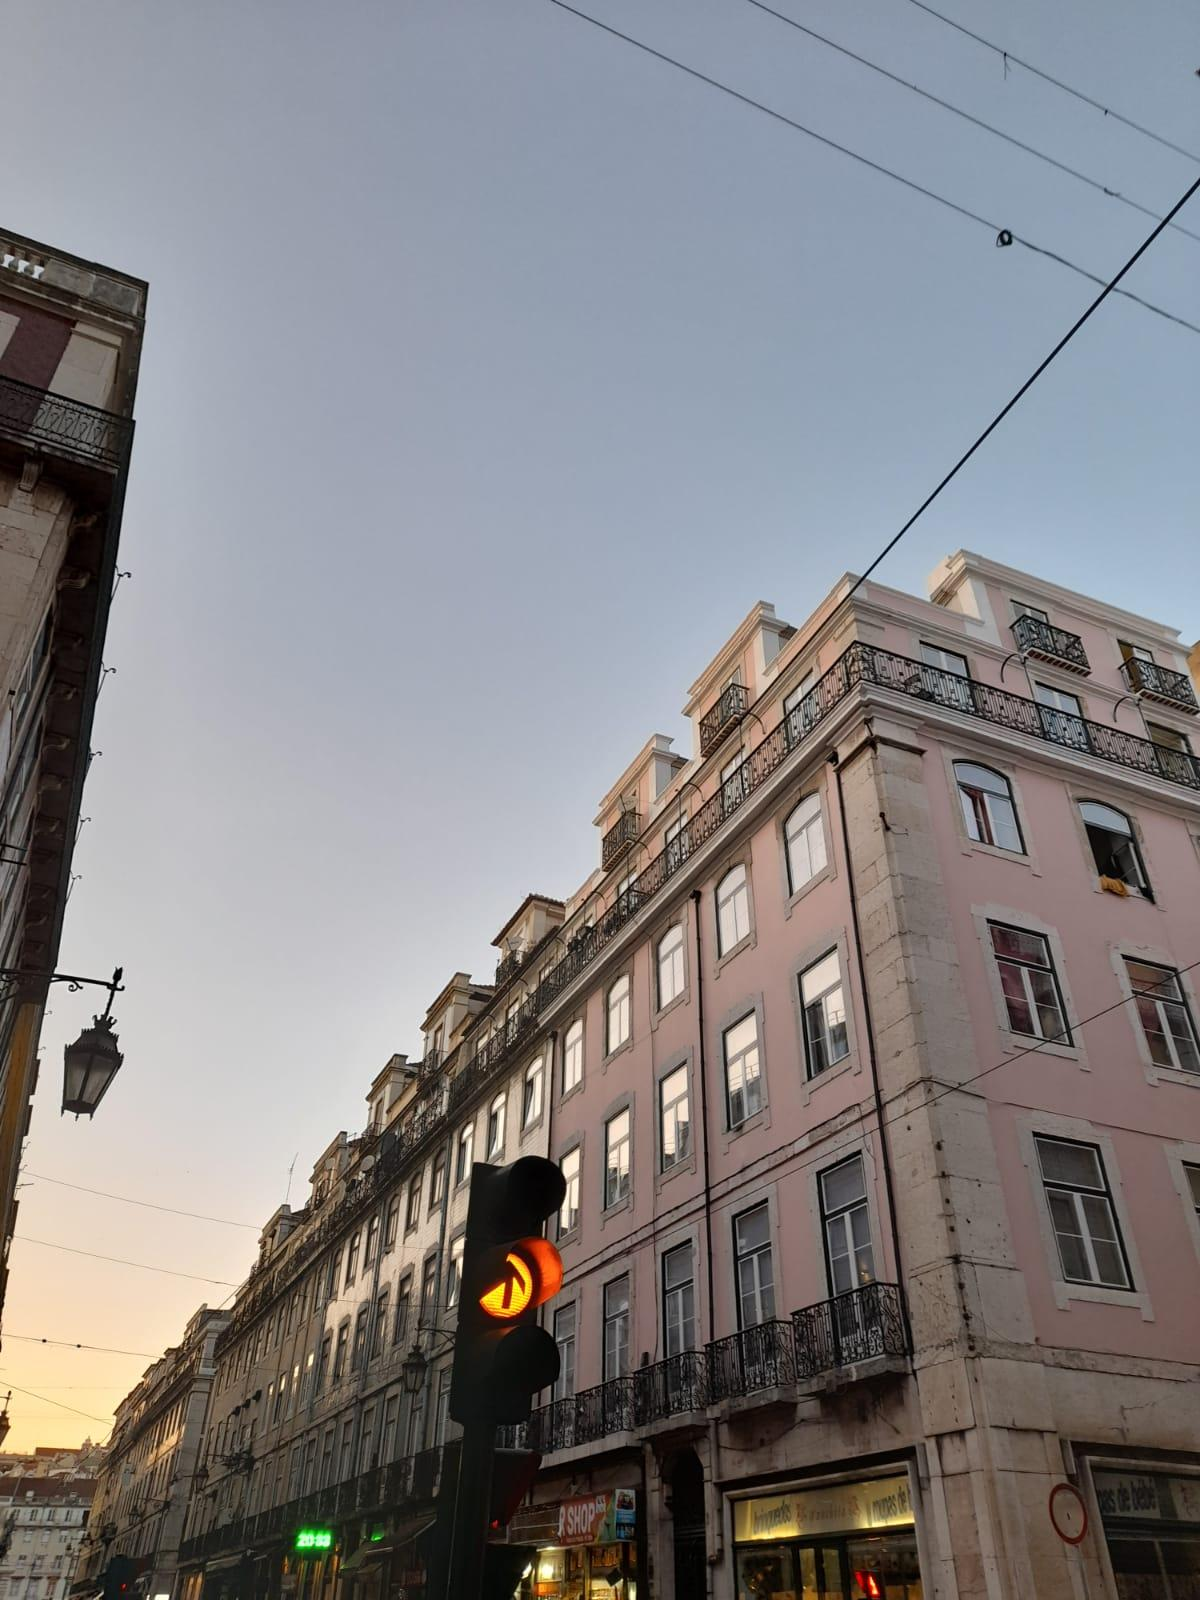yellow_light: (447, 1155, 566, 1425)
